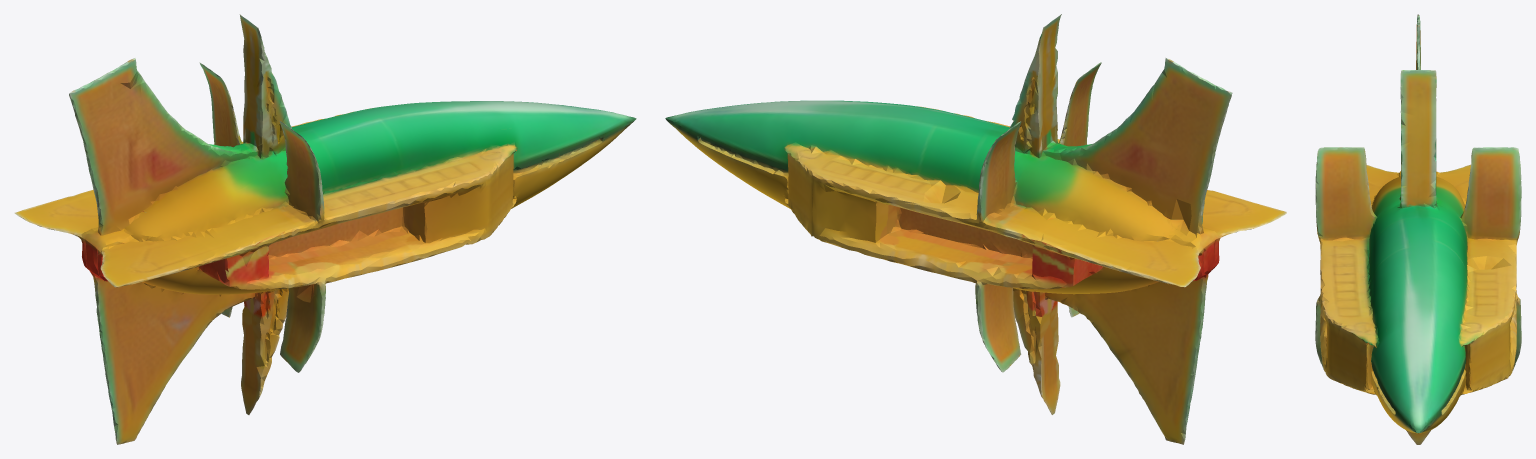
File: ship.glb
The picture shows the model from 3 angles, left to right: view 1: azimuth 30°, elevation 25°; view 2: azimuth 150°, elevation 25°; view 3: azimuth 270°, elevation 25°; orthographic projection. The views are drawn at different scales.
Visible parts, largest first — view 1: ChronosShip_v1; view 2: ChronosShip_v1; view 3: ChronosShip_v1.
Boxes of the visible parts, x1,y1,x2,y2 form: ChronosShip_v1: [14, 14, 636, 444]; ChronosShip_v1: [665, 14, 1286, 444]; ChronosShip_v1: [1315, 14, 1521, 444].
Size of the model in its own units: 1.89 by 1.25 by 0.6217.
Materials: 1 (1 with a texture image).
